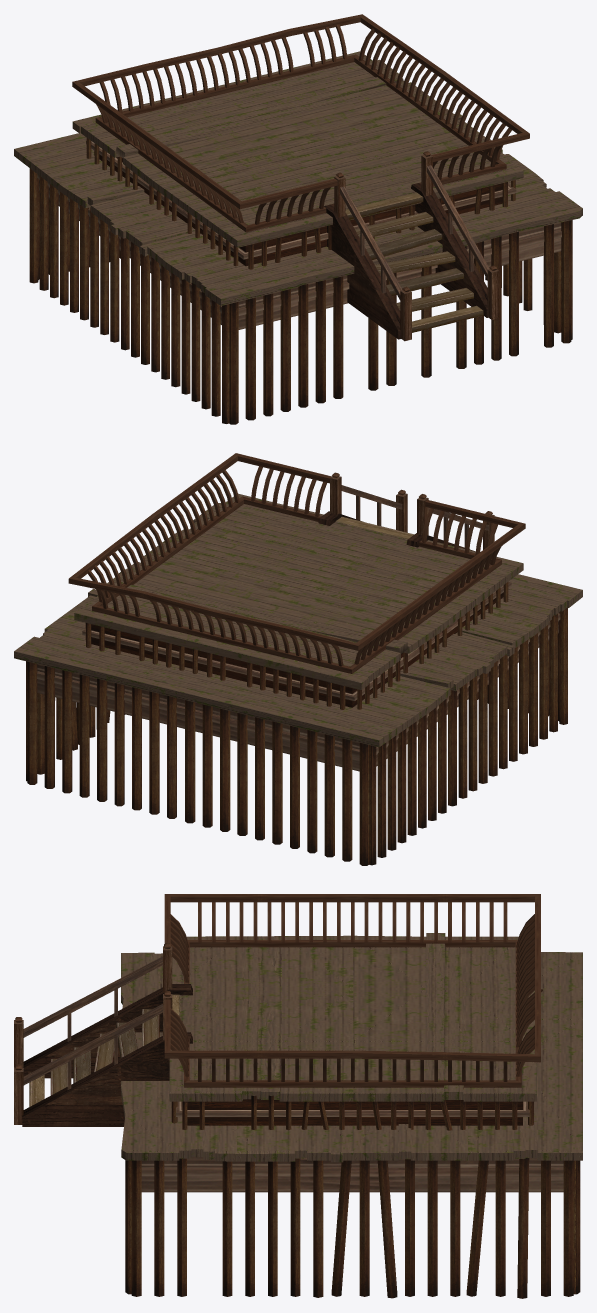
File: daliang_field_b_n01a.fbx
The picture shows the model from 3 angles, top to bottom: view 1: azimuth 30°, elevation 25°; view 2: azimuth 150°, elevation 25°; view 3: azimuth 270°, elevation 25°; orthographic projection. The views are drawn at different scales.
Parts seen in each view (by area): view 1: daliang_field_b_n01a:daliang_field_b_n01a; view 2: daliang_field_b_n01a:daliang_field_b_n01a; view 3: daliang_field_b_n01a:daliang_field_b_n01a.
Boxes of the visible parts, x1,y1,x2,y2 form: daliang_field_b_n01a:daliang_field_b_n01a: (14,14,582,424); daliang_field_b_n01a:daliang_field_b_n01a: (14,453,582,865); daliang_field_b_n01a:daliang_field_b_n01a: (14,894,582,1298).
Size of the model in its own units: 1094 by 581 by 1286.
